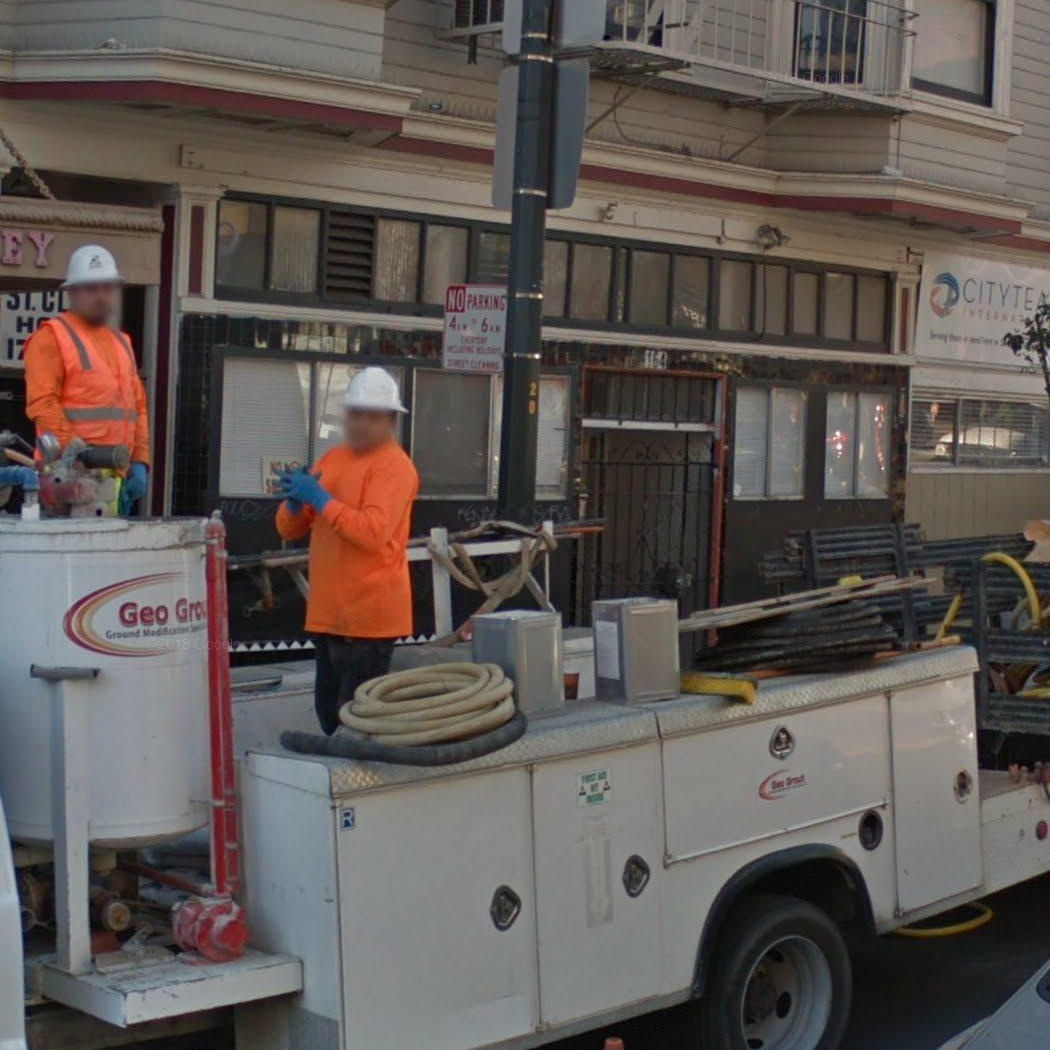No Parking: (441, 283, 509, 375)
